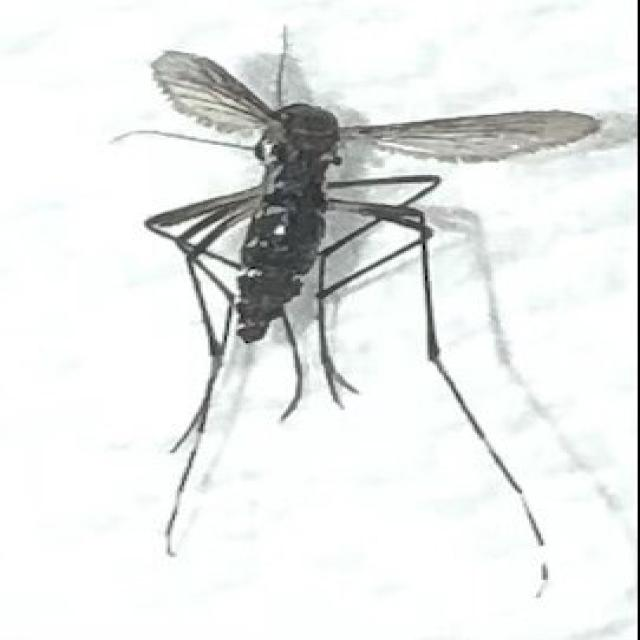albopictus: (92, 16, 555, 582)
